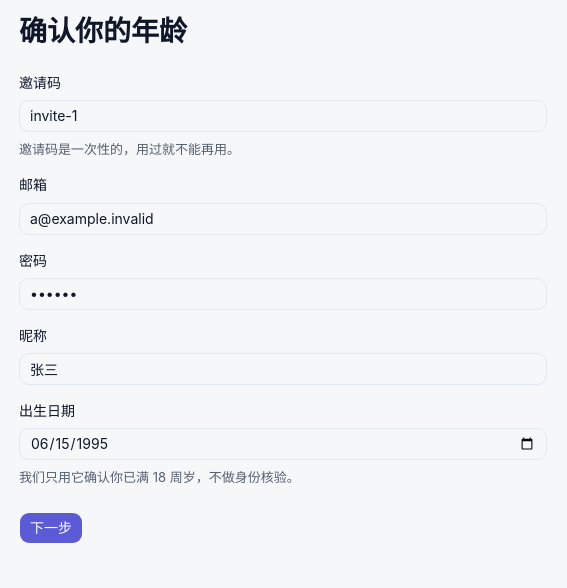
Test: (h) 步骤 0「下一步」不禁用：点击时校验、报错、聚焦第一个出错字段、不前进 › 只填 6 位密码 ⇒ 错误行渲染、焦点在密码框、且没有前进到步骤 1
The width and height of the screenshot is (567, 588).
Click the button "下一步".
click(51, 528)  # box [19,512,83,544]
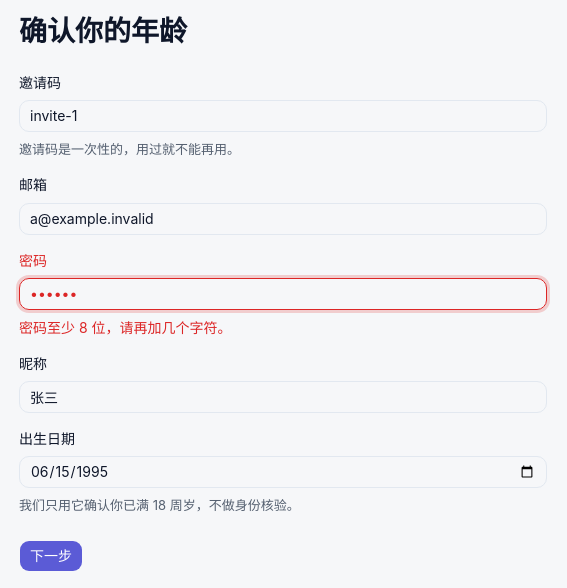
expect the field labelled "邀请码" is shown: met, box [19,100,547,132]
expect the text "密码至少 8 位，请再加几个字符。" is shown: met, box [19,319,232,336]
